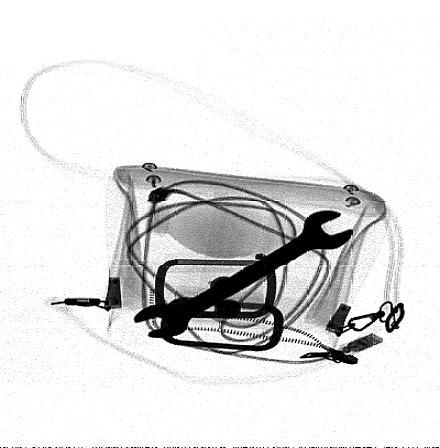Wrench: (133, 210, 354, 339)
